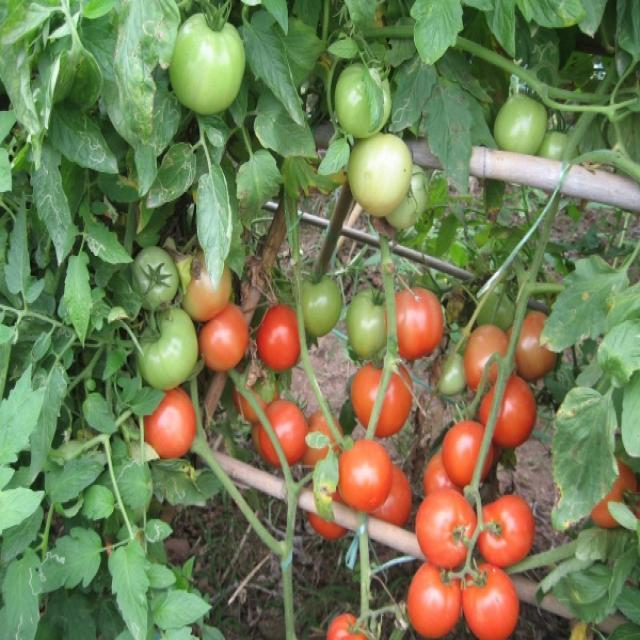kirmizi: (402, 444, 532, 640), (260, 302, 312, 374)
yesil: (318, 52, 436, 210), (172, 18, 288, 132)
